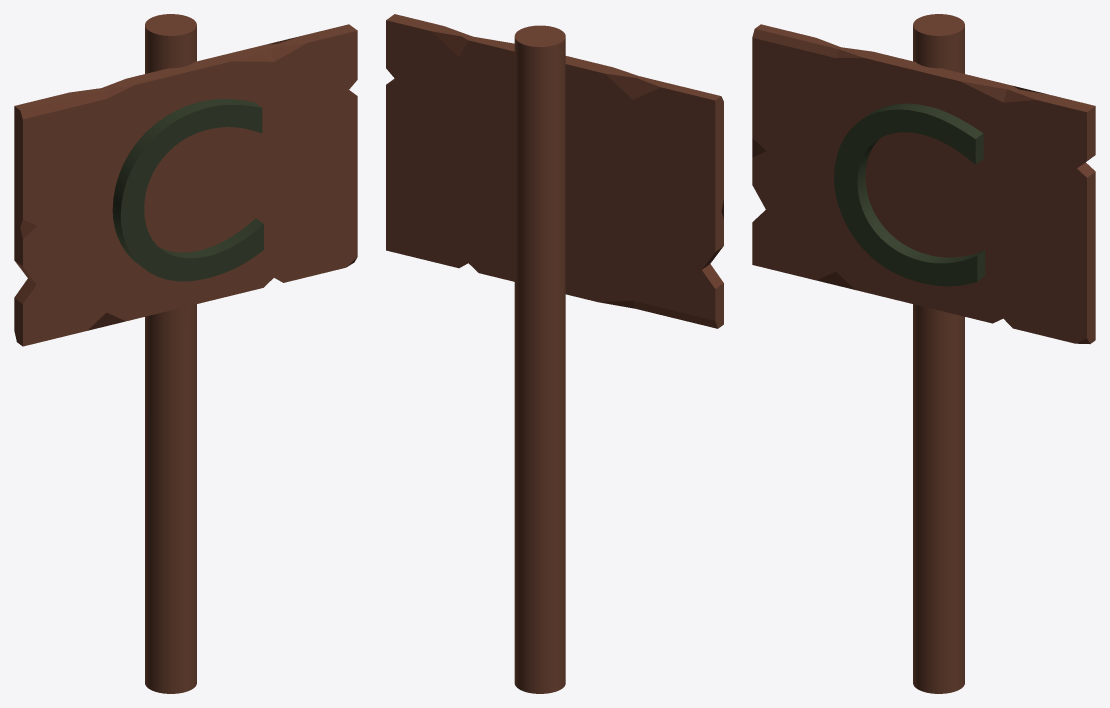
File: Checkpoint.fbx
The picture shows the model from 3 angles, left to right: view 1: azimuth 30°, elevation 25°; view 2: azimuth 150°, elevation 25°; view 3: azimuth 330°, elevation 25°; orthographic projection.
Visible parts, largest first — view 1: Cube, Cylinder, Text; view 2: Cube, Cylinder; view 3: Cube, Cylinder, Text.
Boxes of the visible parts, x1,y1,x2,y2 form: Cube: (14,24,357,346); Cylinder: (145,14,196,693); Text: (112,99,263,281); Cube: (386,14,723,328); Cylinder: (514,25,565,693); Cube: (752,24,1095,343); Cylinder: (913,14,964,693); Text: (834,103,985,286).
Bounding box in the file's own units: 110 × 206 × 22.97.
